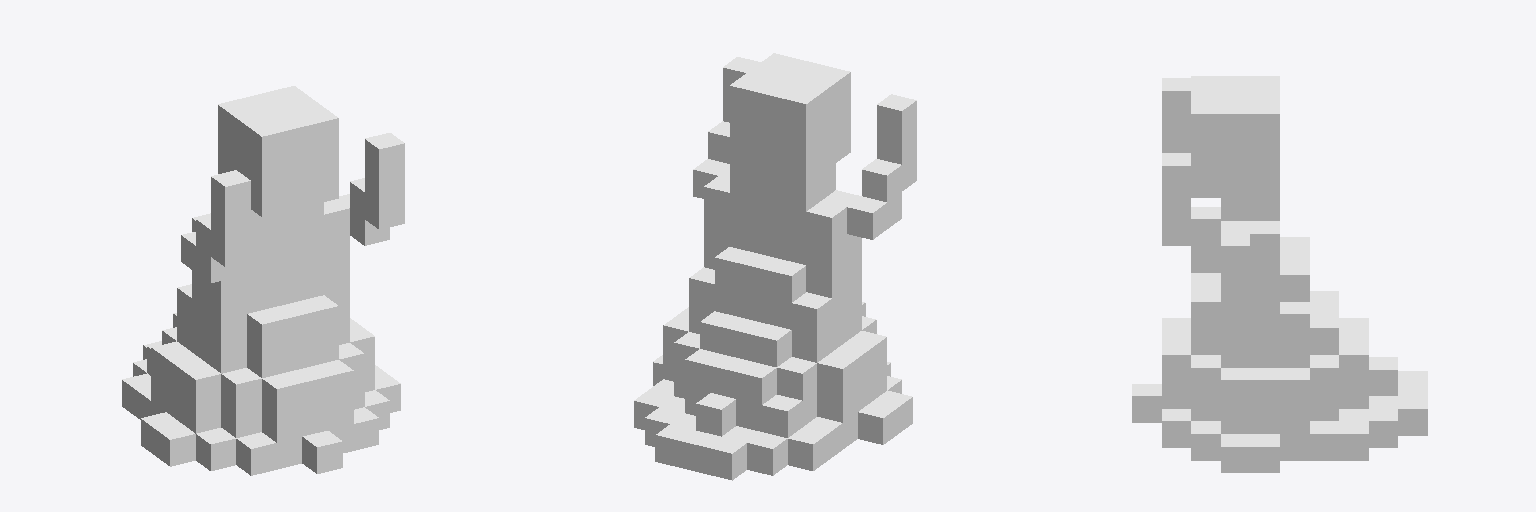
File: attack_1.obj
3 views of the same model, side by side, from view 1: azimuth 30°, elevation 25°; view 2: azimuth 150°, elevation 25°; view 3: azimuth 270°, elevation 25° (orthographic).
Size of the model in its own units: 9 by 12 by 10.